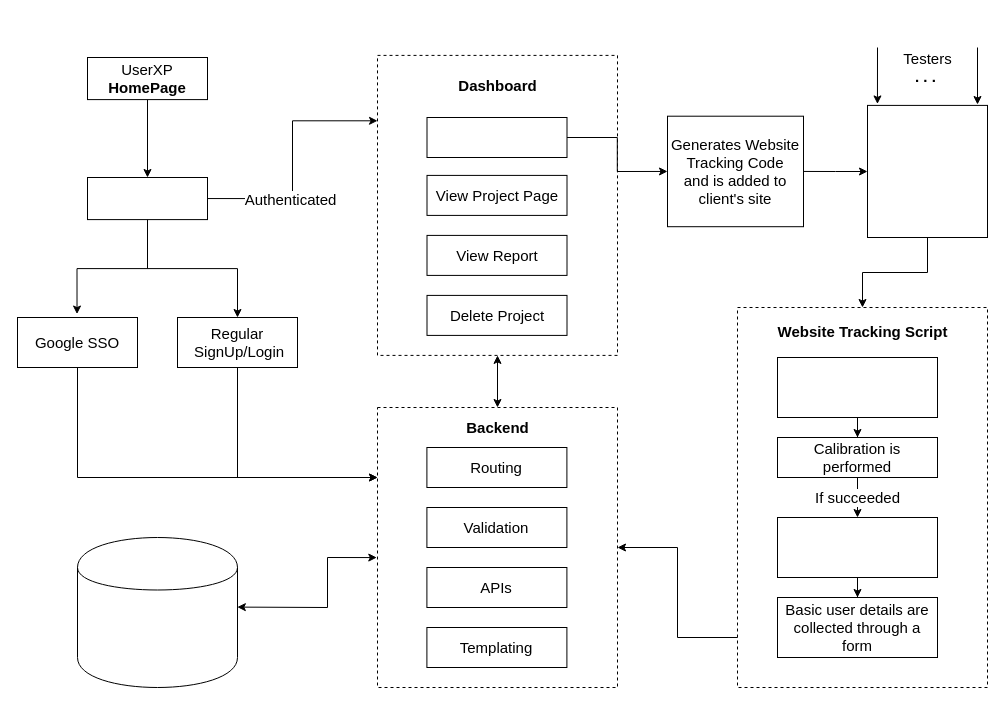
The diagram is 1005 pixels wide and 705 high, and some of its shapes have lost their labels. The centre of each missing label's shape, as x and y in pixels:
"Add New Project" goes at (x=496, y=137).
"Client Website" goes at (x=927, y=171).
"Database" goes at (x=157, y=612).
"SignUp/Login" goes at (x=147, y=198).
"Tracking Script loads all configurations and dependencies" goes at (x=857, y=387).
"User interacts with website as usual for specified time" goes at (x=857, y=547).
